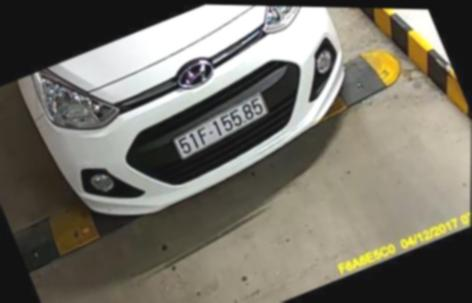License_Plate: (166, 87, 270, 164)
